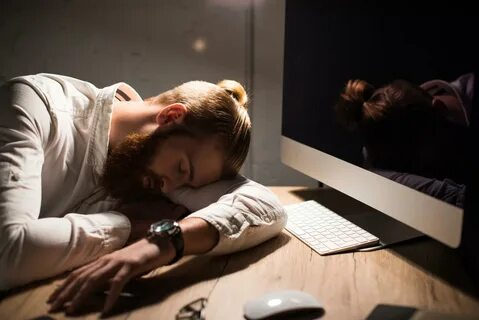sleep: (1, 73, 287, 291)
